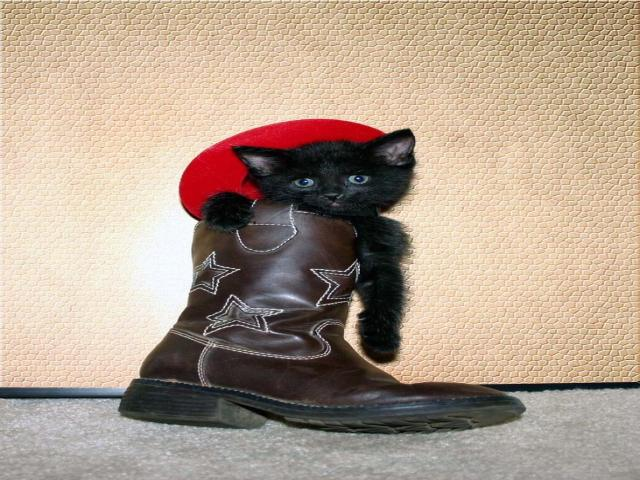Cat: (199, 126, 408, 362)
